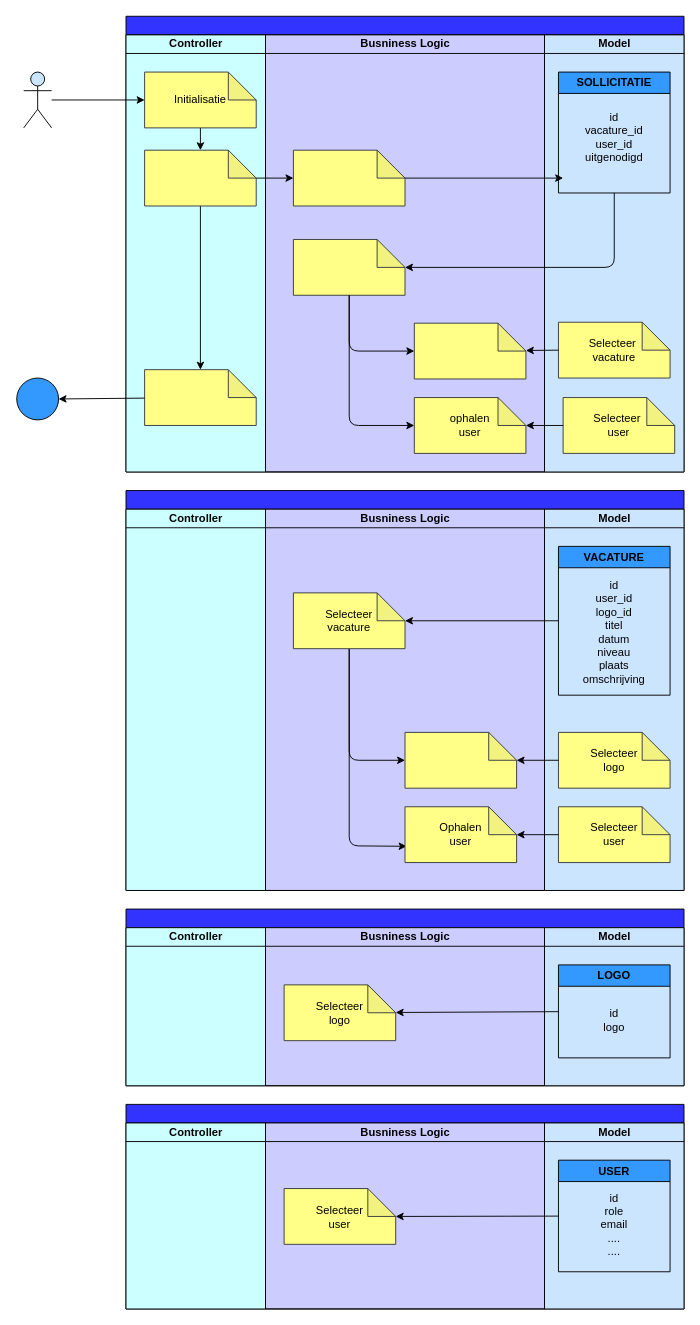
This 700x1325 diagram has some shape labels left out. The shapes that lost their labels are listed below. From the top down, each one's centre as x and y in pixels, then its label:
At (x=37, y=99): "Actor".
At (x=200, y=177): "solliciteren".
At (x=348, y=177): "toevoegen sollicitatie".
At (x=348, y=267): "Selecteer sollicitatie".
At (x=469, y=350): "ophalen vacature".
At (x=200, y=397): "sollicitatie tonen".
At (x=460, y=759): "Ophalen logo".
